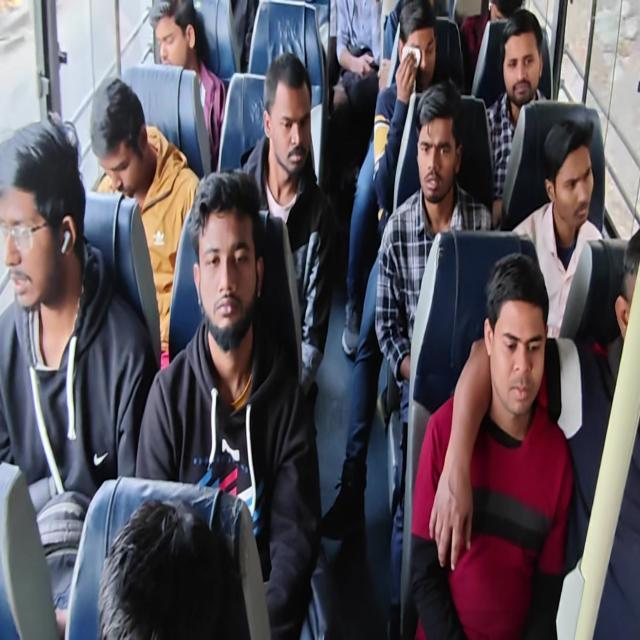person: (183, 176, 271, 338), (0, 127, 81, 302), (253, 68, 323, 194), (492, 266, 544, 420), (87, 82, 147, 207), (545, 130, 603, 239), (415, 97, 456, 201), (392, 15, 432, 106), (148, 6, 202, 72), (498, 23, 535, 105), (481, 0, 530, 33)
